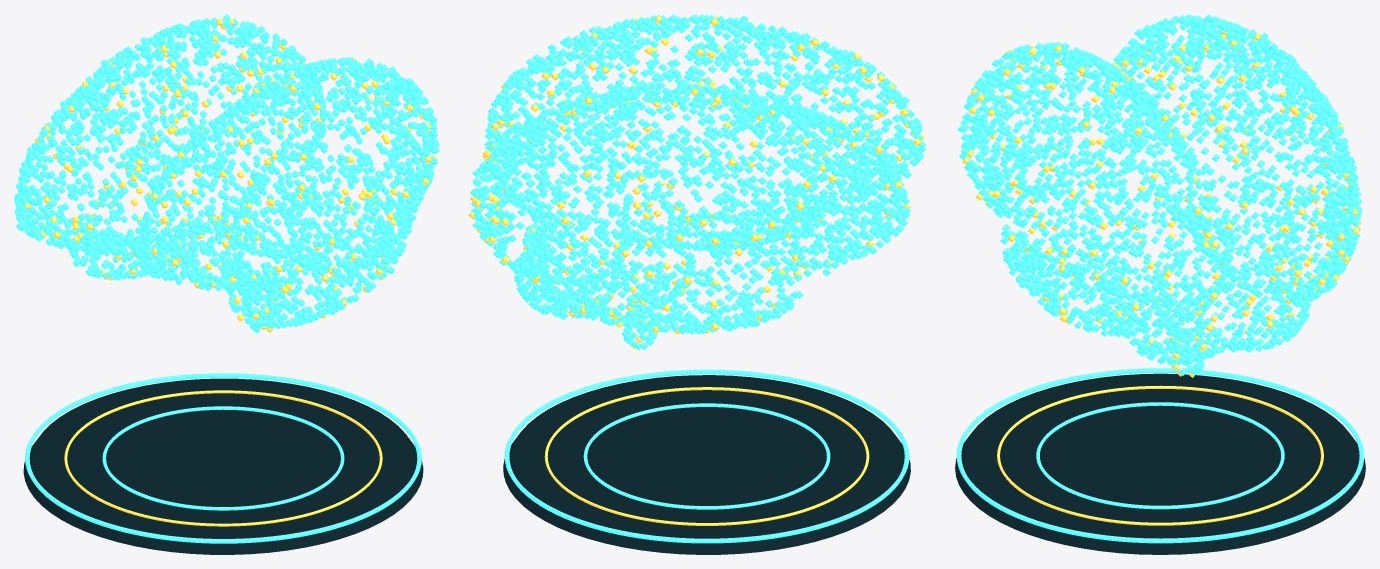
The model's file is core.glb.
3 renders of one model, left to right at view 1: azimuth 30°, elevation 25°; view 2: azimuth 150°, elevation 25°; view 3: azimuth 270°, elevation 25°, orthographic. The views are drawn at different scales.
Parts seen in each view (by area): view 1: neurons, core, base-rings, firing, base-accent; view 2: neurons, core, base-rings, firing, base-accent; view 3: neurons, core, base-rings, firing, base-accent.
Boxes of the visible parts, box(x1,y1,x2,y2) form: neurons: box(14, 14, 439, 333); core: box(23, 378, 423, 554); base-rings: box(25, 373, 421, 543); firing: box(24, 18, 437, 332); base-accent: box(64, 390, 382, 526); neurons: box(470, 14, 926, 350); core: box(503, 375, 910, 554); base-rings: box(504, 369, 909, 543); firing: box(468, 16, 924, 349); base-accent: box(544, 387, 869, 525); neurons: box(957, 14, 1362, 375); core: box(955, 373, 1365, 554); base-rings: box(956, 368, 1364, 543); firing: box(962, 27, 1361, 377); base-accent: box(997, 385, 1323, 525).
Size of the model in its own units: 0.3148 by 0.3032 by 0.2704.
